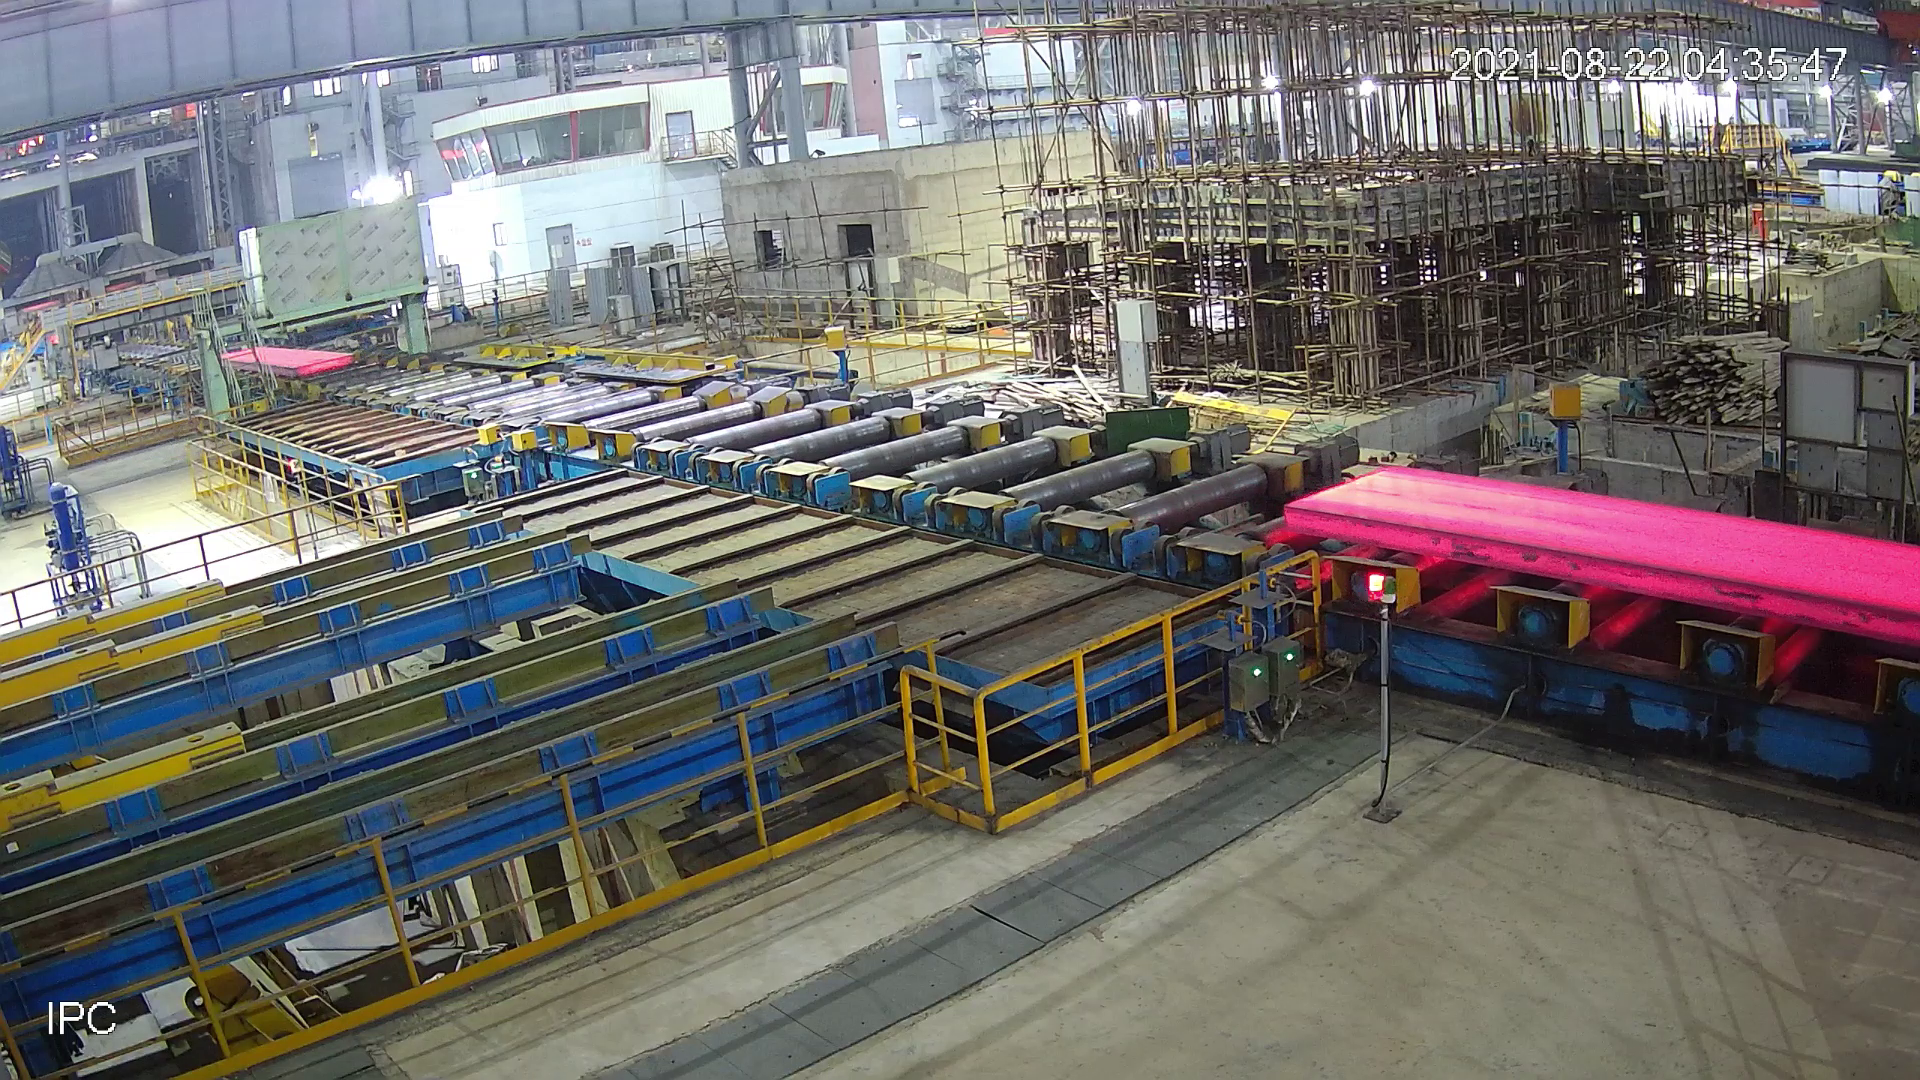slab: (1279, 456, 1920, 658), (214, 342, 356, 380)
